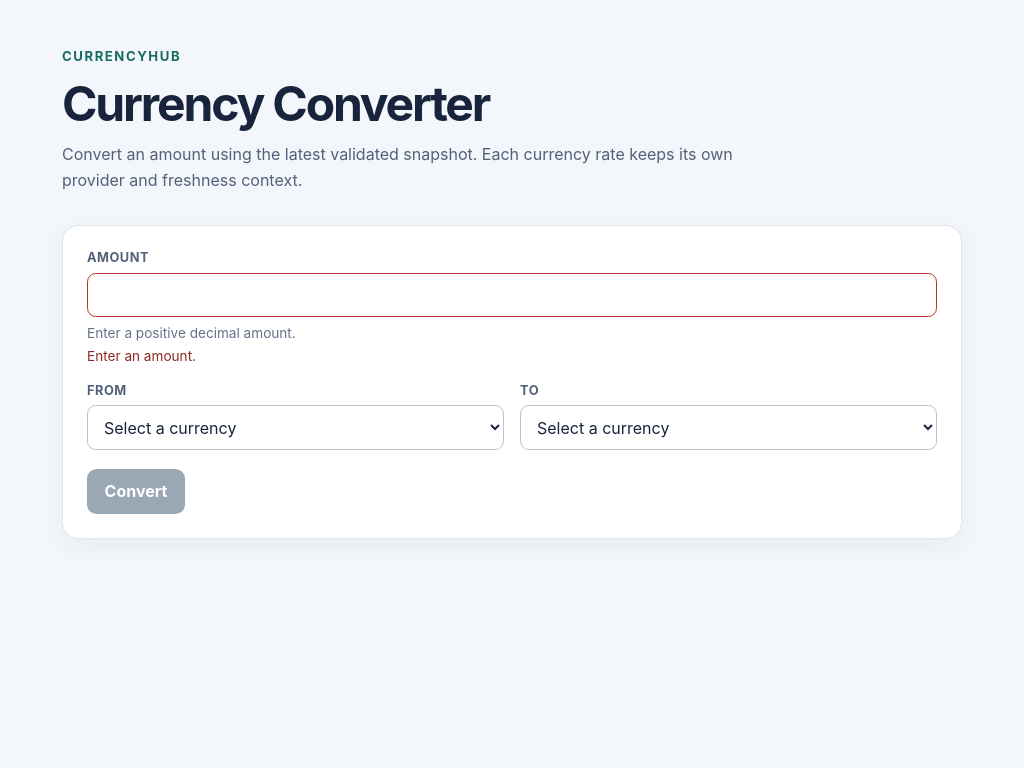
ConverterComponent › shows a safe rate-unavailable error and removes any prior successful result
The width and height of the screenshot is (1024, 768).
Type "123.456789012345678901" into the field with id "amount" at (512, 295), box [87,273,937,317]
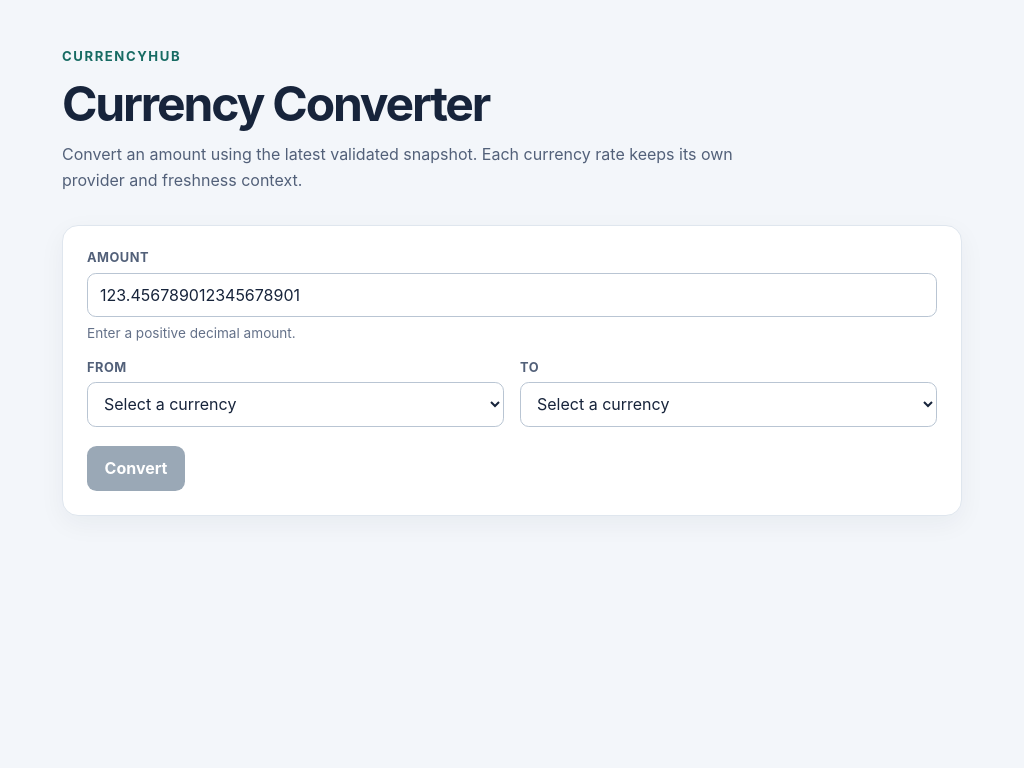
Select "EUR — Euro" in the dropdown with id "source-currency" at (296, 404), box [87,382,504,427]
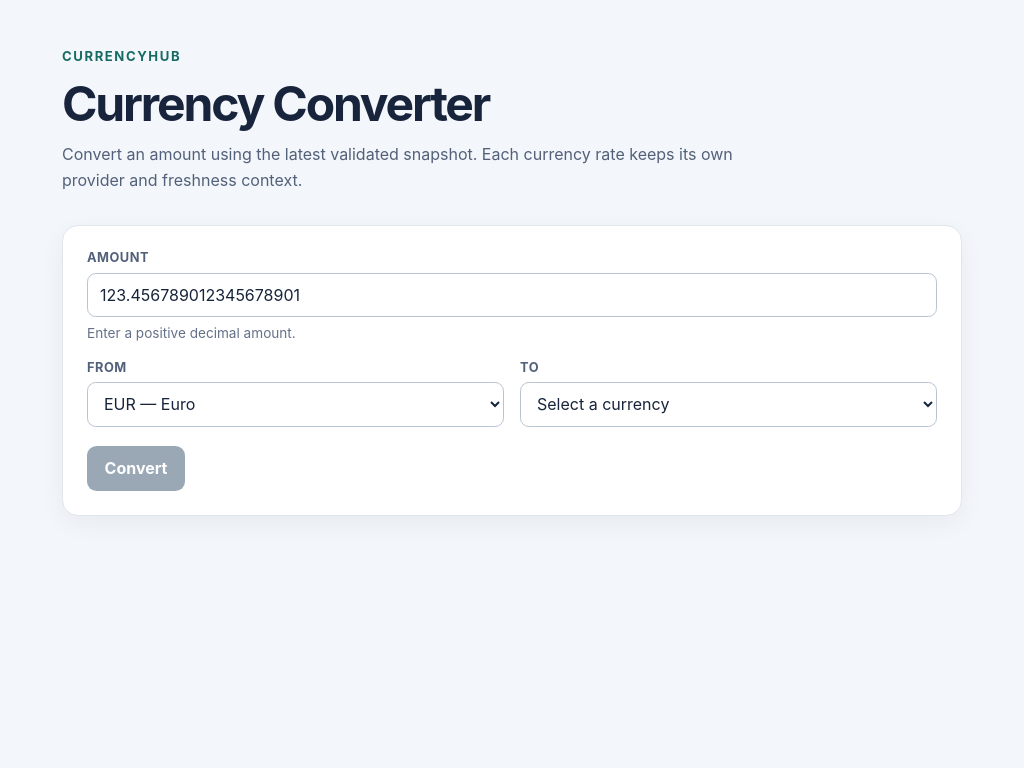
Select "BTC — Bitcoin" in the dropdown with id "target-currency" at (728, 404), box [520,382,937,427]
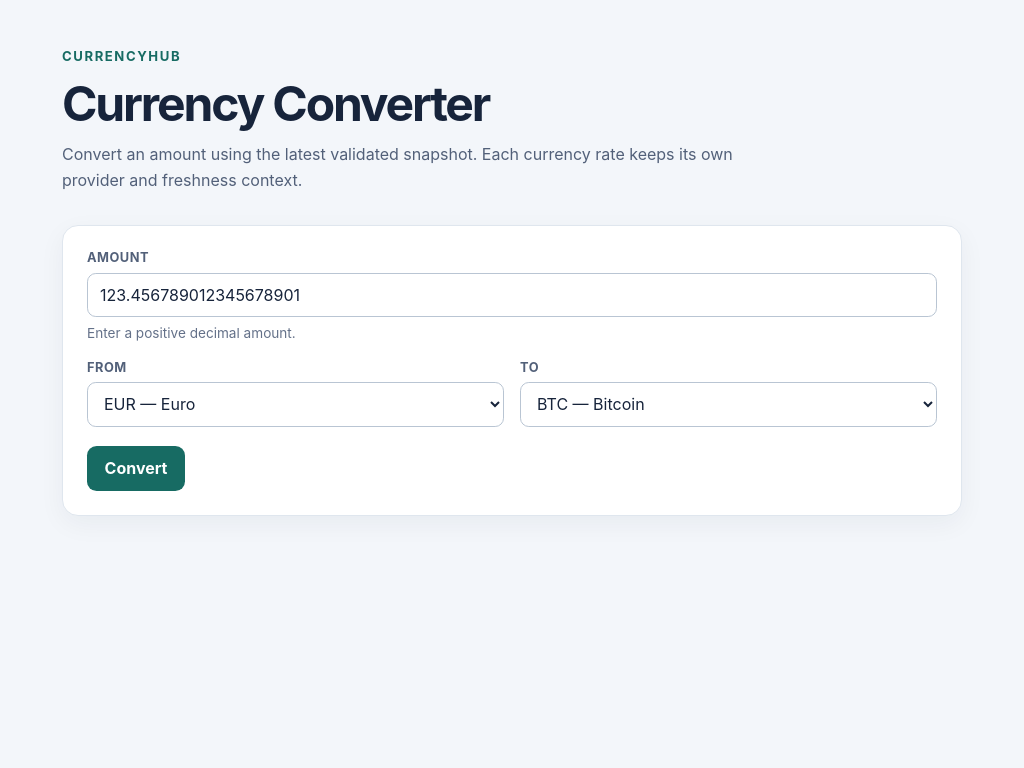
Click the submit button at (136, 468), box [87,446,185,491]
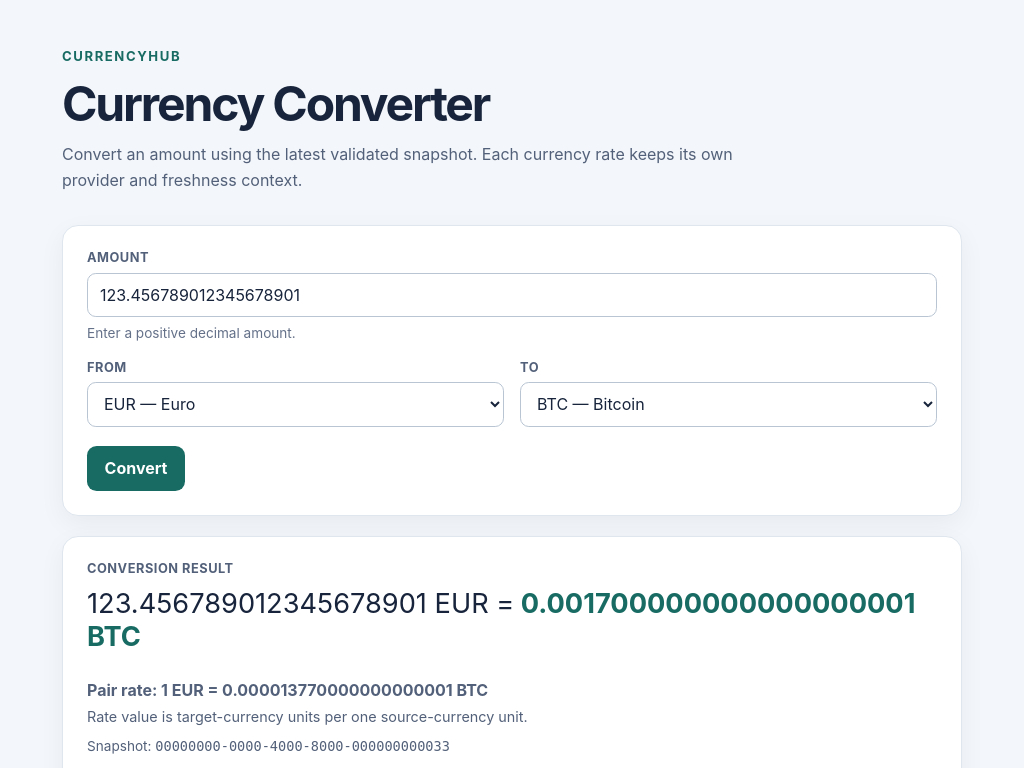
Replace the text in the field with id "amount" with "20" at (512, 295), box [87,273,937,317]
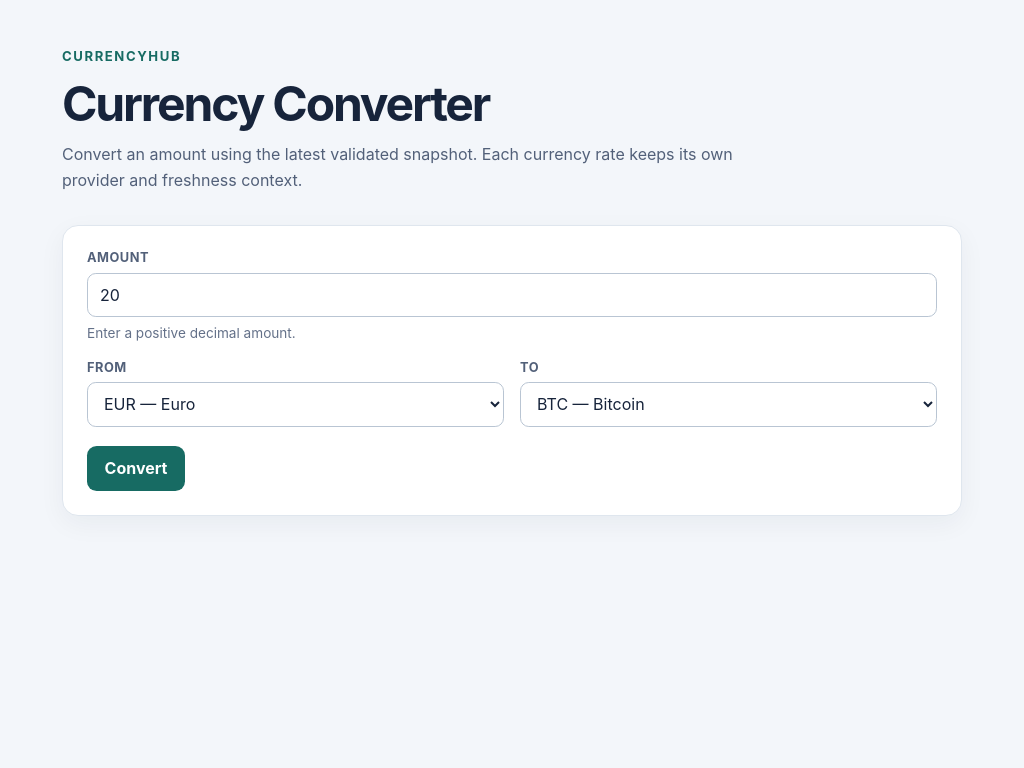
Click the submit button at (136, 468), box [87,446,185,491]
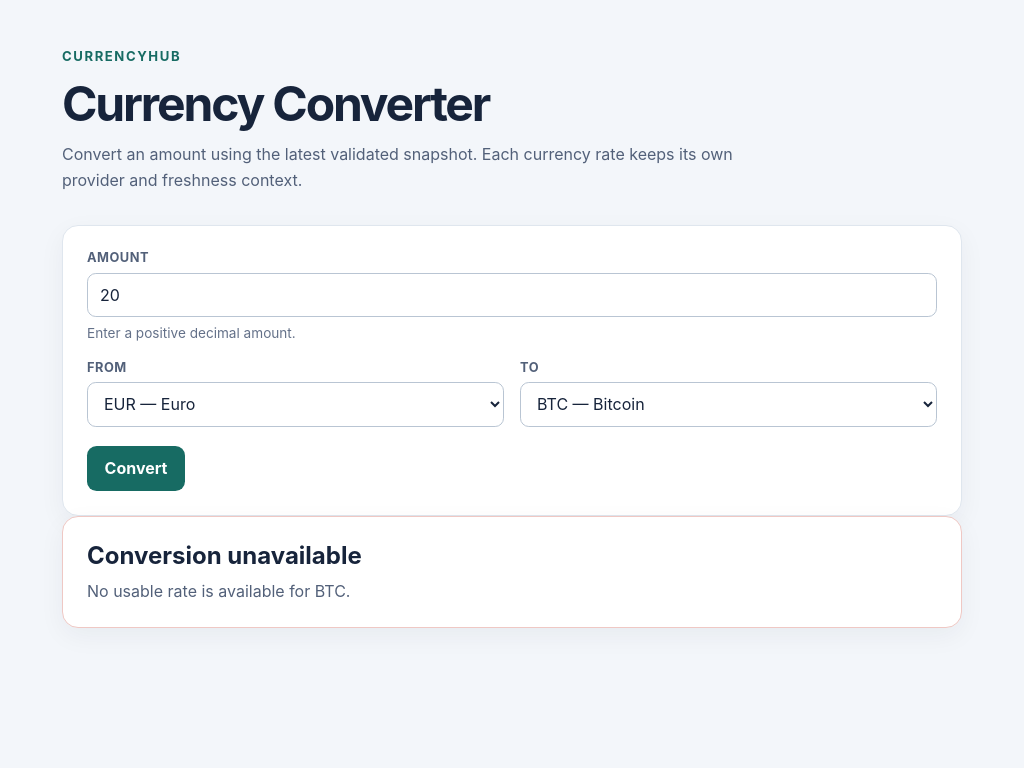
Result: the text "No usable rate is available for BTC." is shown at [87,579,350,603]
